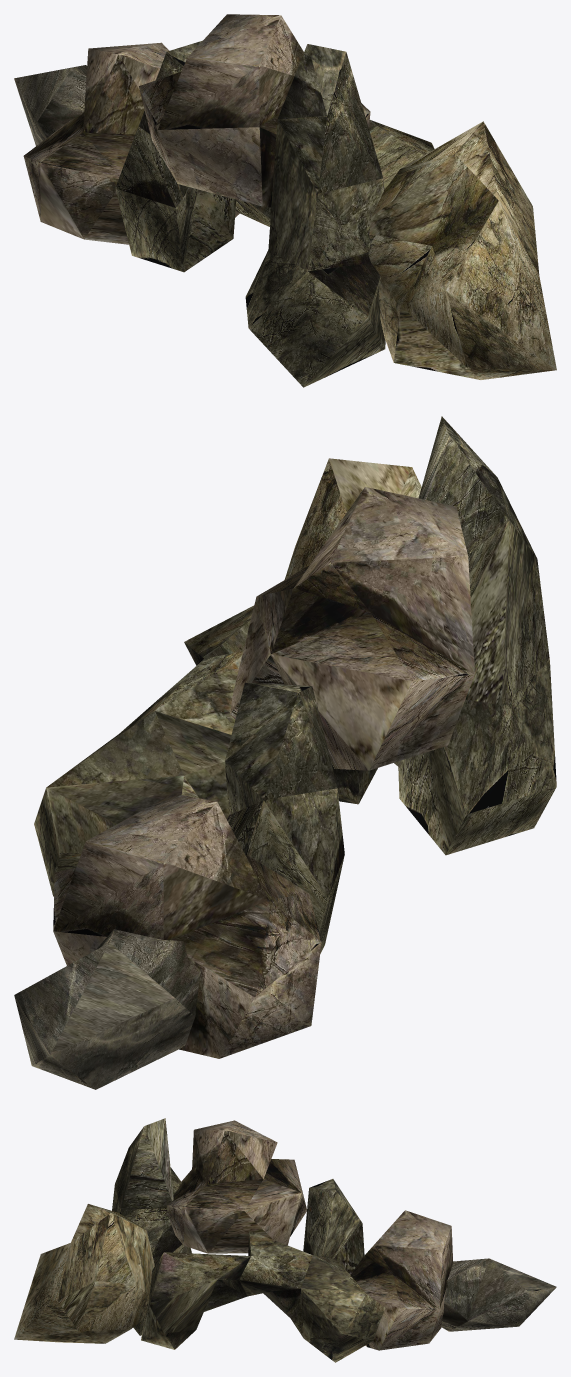
Rendered from rocks1_lod2.fbx.
The picture shows the model from 3 angles, top to bottom: view 1: azimuth 30°, elevation 25°; view 2: azimuth 150°, elevation 25°; view 3: azimuth 270°, elevation 25°; orthographic projection. The views are drawn at different scales.
Parts seen in each view (by area): view 1: Rock_1_LOD2, Rock_5_LOD2, Rock_7_1_LOD2, Rock_7_LOD2, Rock_5_1_LOD2, Rock_4_LOD2, Rock_6_LOD2; view 2: Rock_7_1_LOD2, Rock_7_LOD2, Rock_5_LOD2, Rock_6_LOD2, Rock_4_LOD2, Rock_5_1_LOD2, Rock_1_LOD2; view 3: Rock_6_LOD2, Rock_1_LOD2, Rock_7_1_LOD2, Rock_7_LOD2, Rock_4_LOD2, Rock_5_LOD2, Rock_5_1_LOD2.
Part boxes in pixels (box(x1,y1,x2,y2)): Rock_1_LOD2: box(368, 121, 556, 379); Rock_5_LOD2: box(245, 44, 385, 387); Rock_7_1_LOD2: box(139, 14, 370, 207); Rock_7_LOD2: box(23, 42, 239, 244); Rock_5_1_LOD2: box(115, 40, 236, 272); Rock_4_LOD2: box(14, 65, 86, 145); Rock_6_LOD2: box(235, 120, 434, 226); Rock_7_1_LOD2: box(229, 487, 474, 770); Rock_7_LOD2: box(53, 793, 321, 1058); Rock_5_LOD2: box(398, 416, 556, 855); Rock_6_LOD2: box(34, 605, 377, 896); Rock_4_LOD2: box(14, 929, 200, 1089); Rock_5_1_LOD2: box(225, 682, 344, 953); Rock_1_LOD2: box(284, 458, 421, 767); Rock_6_LOD2: box(141, 1230, 385, 1362); Rock_1_LOD2: box(14, 1204, 154, 1343); Rock_7_1_LOD2: box(166, 1120, 306, 1253); Rock_7_LOD2: box(350, 1210, 453, 1350); Rock_4_LOD2: box(441, 1258, 556, 1331); Rock_5_LOD2: box(112, 1118, 191, 1335); Rock_5_1_LOD2: box(303, 1179, 364, 1274).
Size of the model in its own units: 719 by 823 by 1937.
5 materials, 5 textured.
